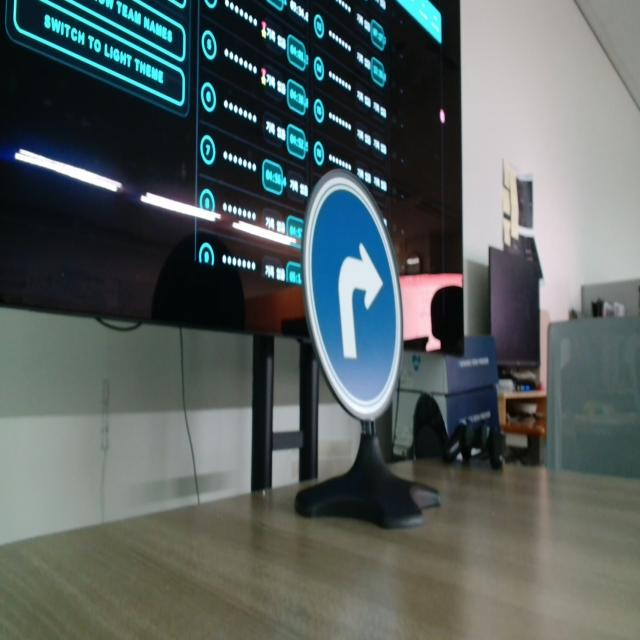right_dierection: (288, 158, 411, 428)
